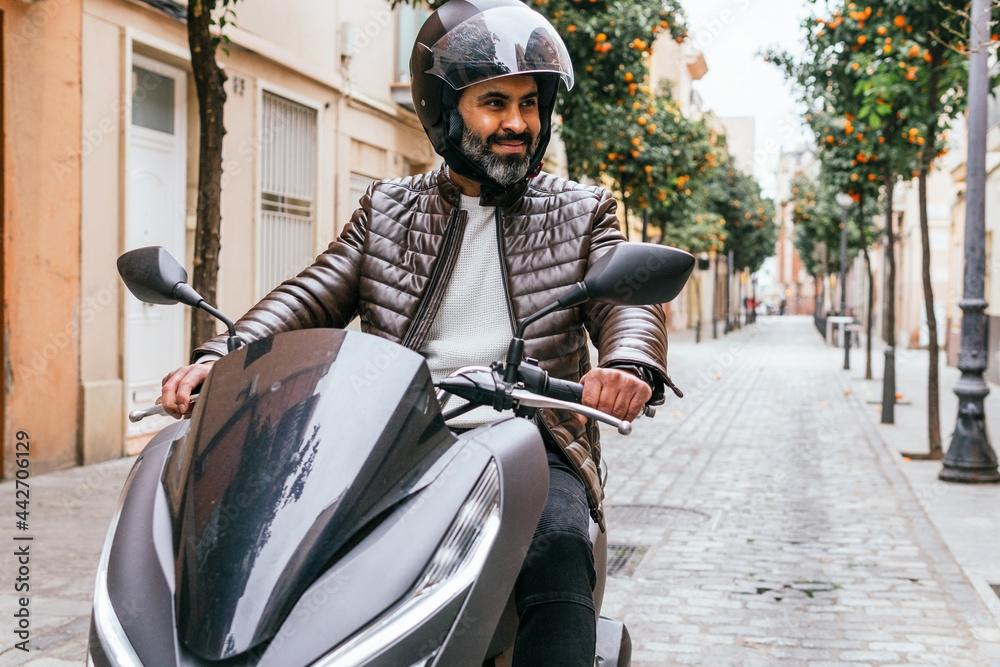helmet: (408, 0, 576, 194)
